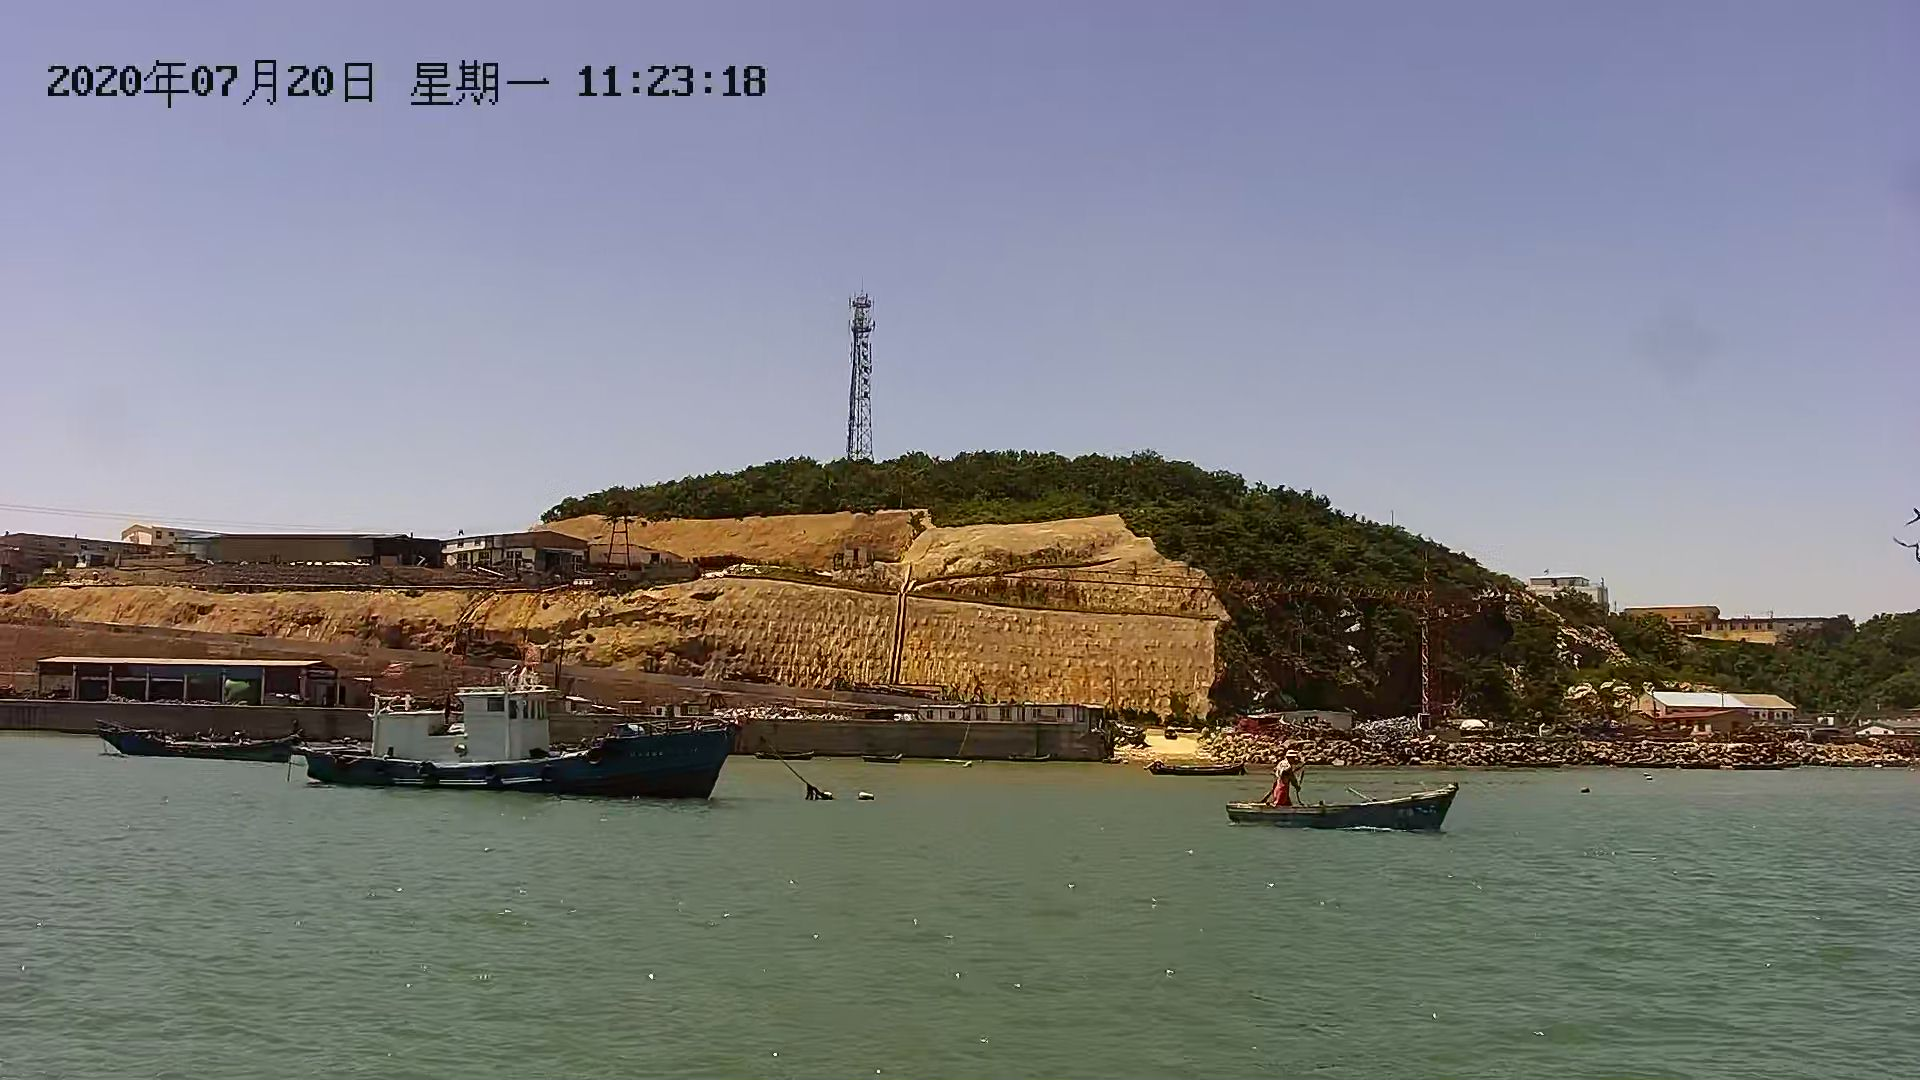boat: (303, 686, 745, 808), (95, 709, 313, 771), (1214, 782, 1466, 827), (1148, 753, 1251, 783)
person: (1269, 750, 1308, 812)
